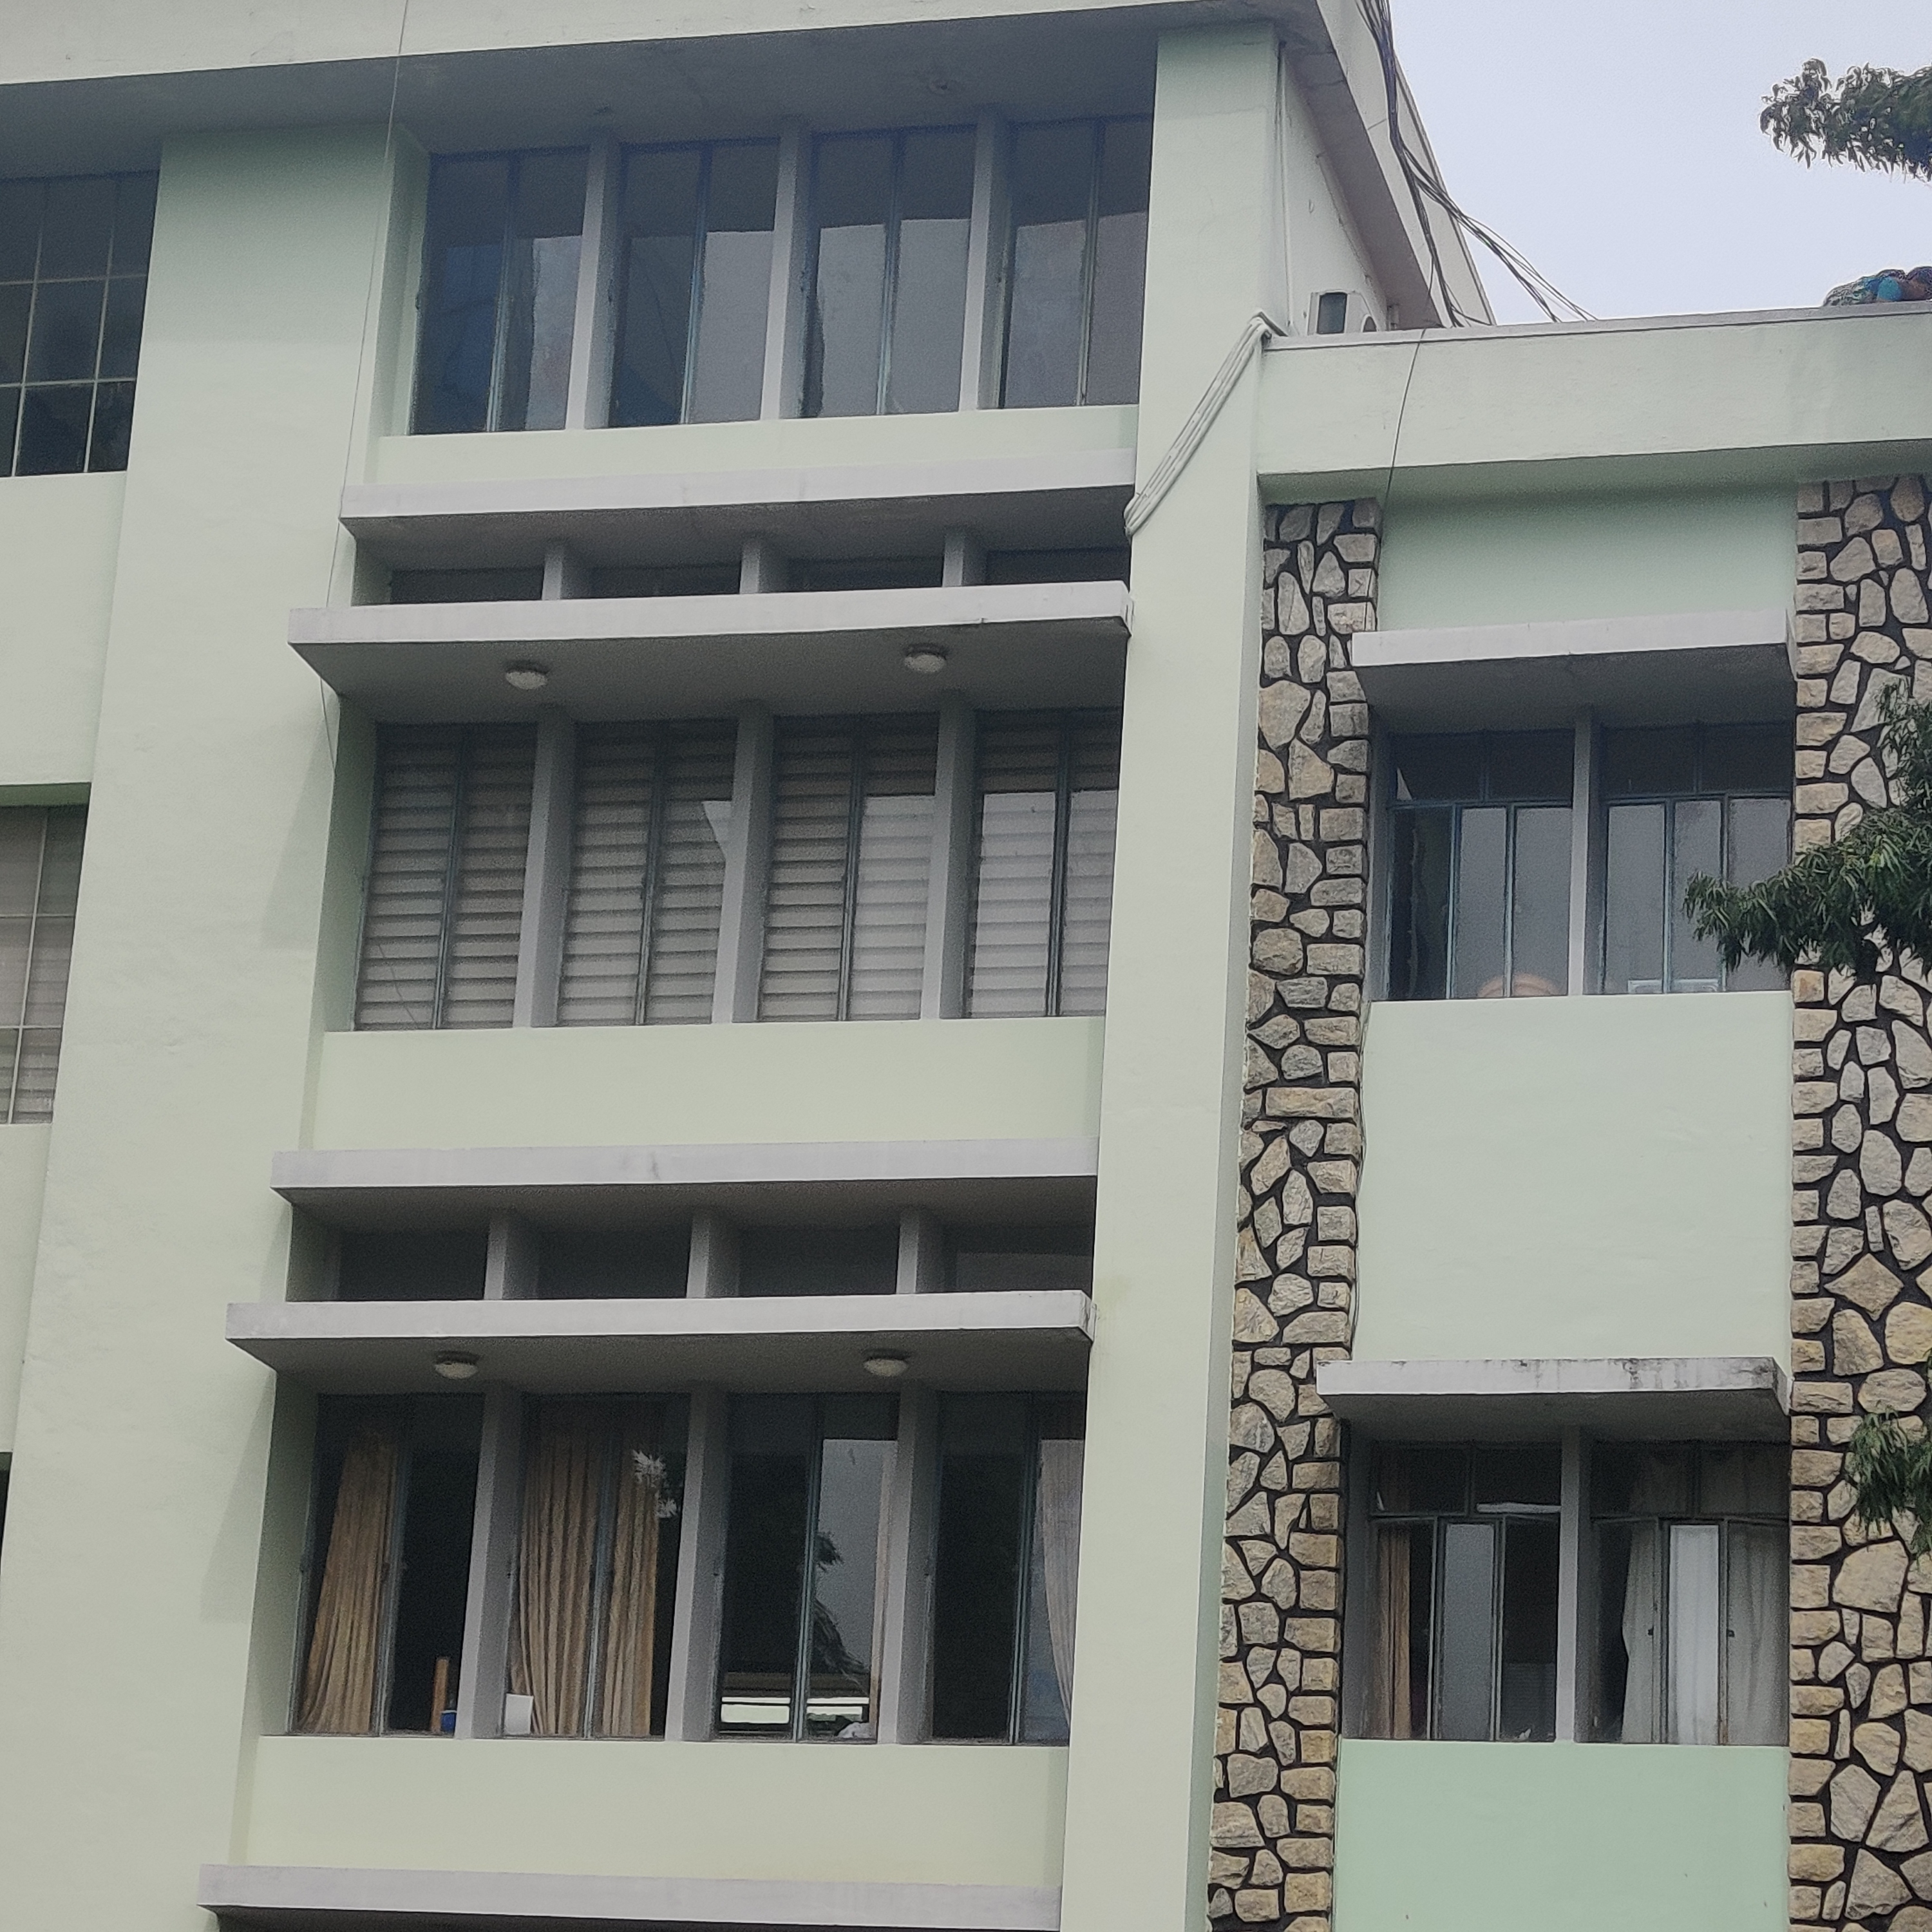Block 1: (19, 9, 1555, 1913)
